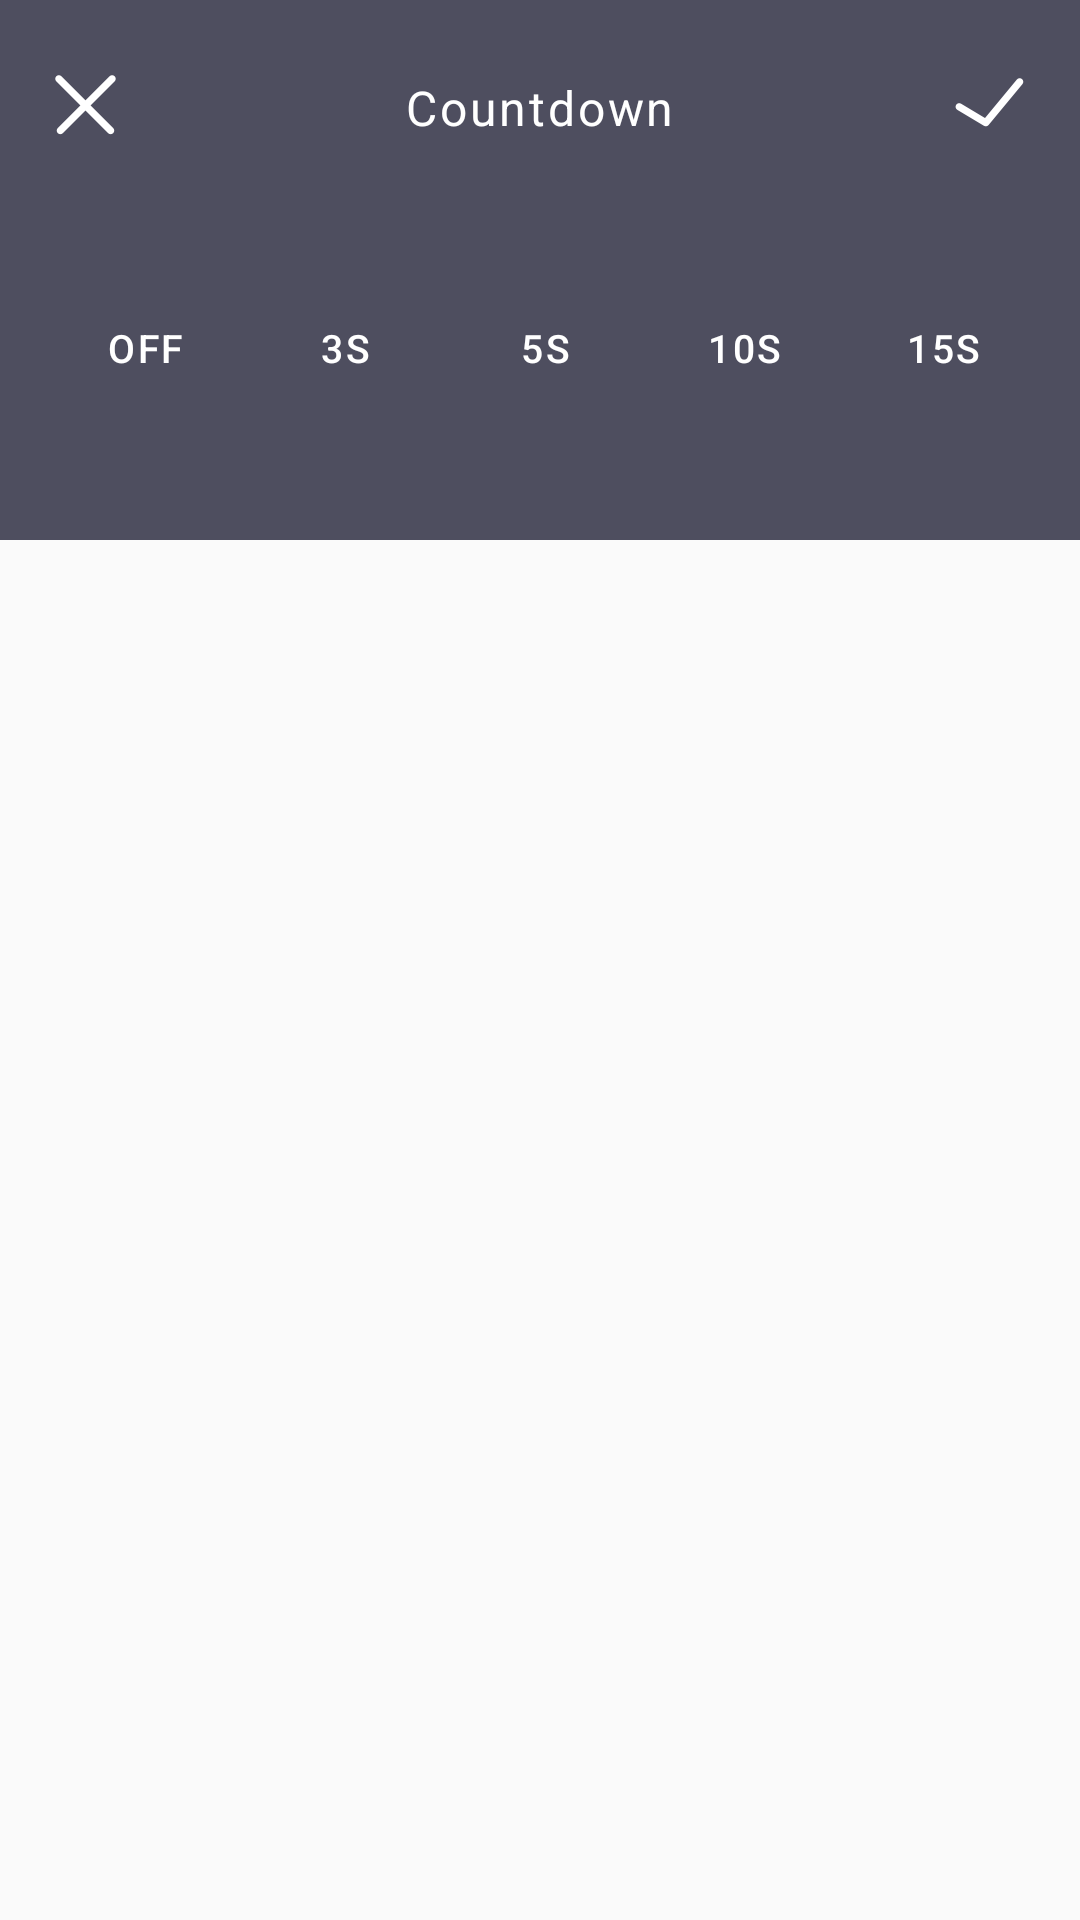

Screen size 1080×1920. Icon name, then its box in pixels as (x1, y1, x2, y2):
yes: (955, 78, 1024, 127)
